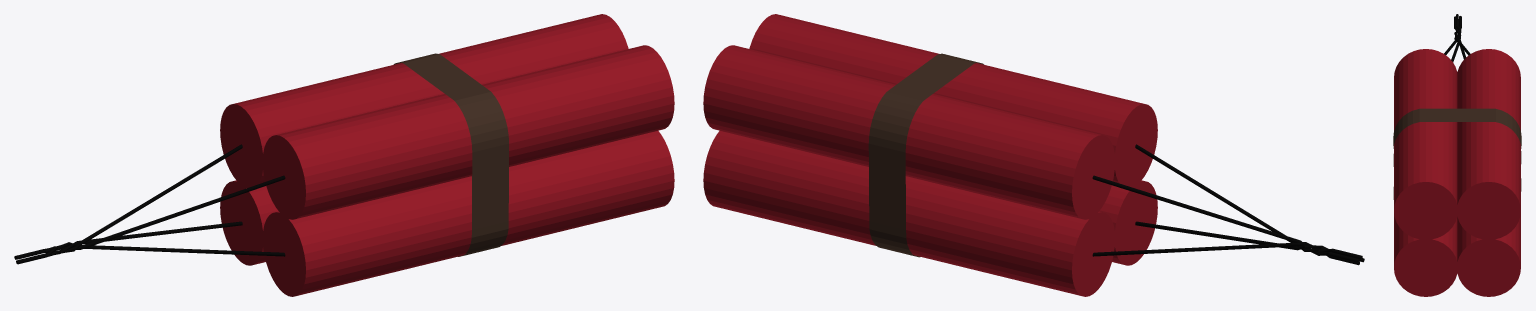
File: dynamite.fbx
The picture shows the model from 3 angles, left to right: view 1: azimuth 30°, elevation 25°; view 2: azimuth 150°, elevation 25°; view 3: azimuth 270°, elevation 25°; orthographic projection. The views are drawn at different scales.
Visible parts, largest first — view 1: sticks, band, fuse; view 2: sticks, band, fuse; view 3: sticks, band, fuse.
Part boxes in pixels (x1,y1,x2,y2): sticks: (220, 14, 674, 296); band: (393, 53, 508, 256); fuse: (14, 144, 285, 264); sticks: (703, 14, 1157, 296); band: (868, 53, 983, 257); fuse: (1092, 144, 1364, 265); sticks: (1394, 49, 1520, 296); band: (1393, 108, 1521, 199); fuse: (1444, 14, 1470, 62).
Size of the model in its own units: 151 by 36.46 by 36.77.
Materials: 3 (3 with a texture image).
